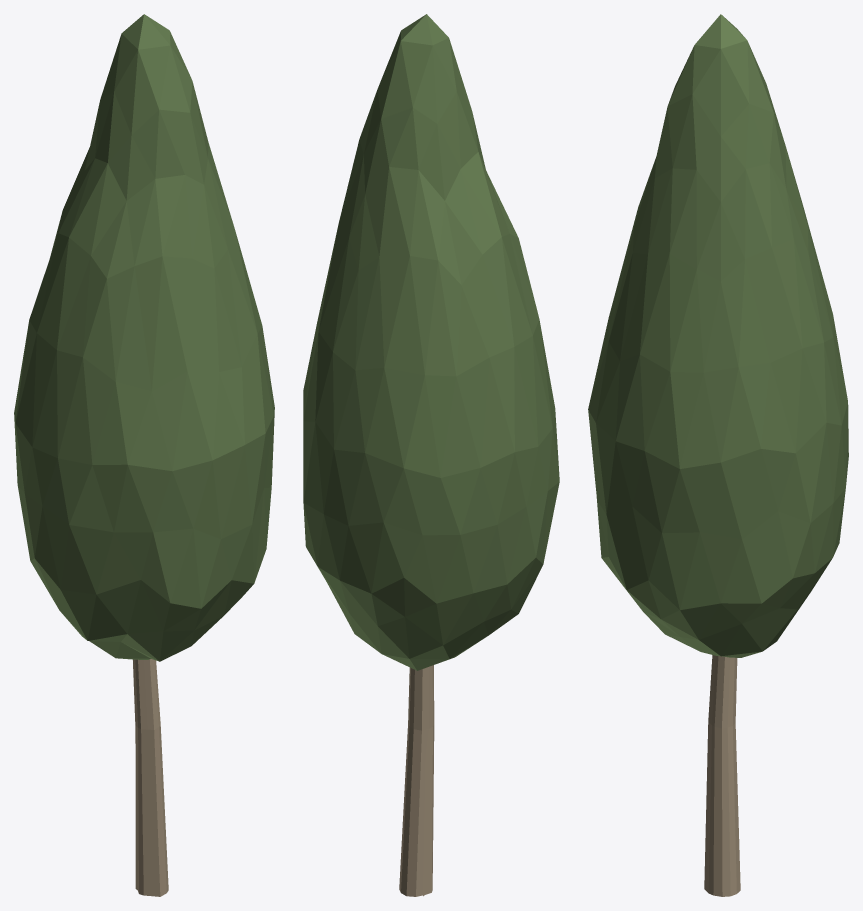
Rendered from greek_tree_1.fbx.
3 renders of one model, left to right at view 1: azimuth 30°, elevation 25°; view 2: azimuth 150°, elevation 25°; view 3: azimuth 270°, elevation 25°, orthographic.
Parts seen in each view (by area): view 1: Cylinder.002; view 2: Cylinder.002; view 3: Cylinder.002.
Part boxes in pixels (box(x1,y1,x2,y2)): Cylinder.002: box(14, 14, 274, 896); Cylinder.002: box(303, 14, 559, 896); Cylinder.002: box(588, 14, 848, 896).
Bounding box in the file's own units: 258 × 968 × 263.
